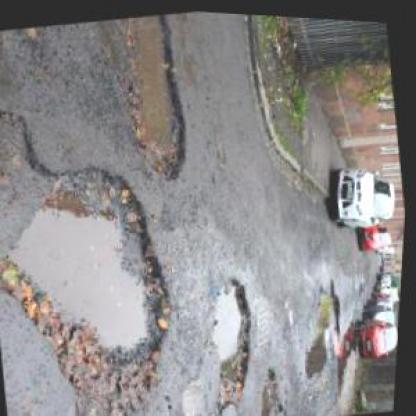pothole: (0, 142, 205, 414), (107, 8, 202, 186), (196, 270, 273, 414), (312, 273, 351, 336), (298, 328, 341, 378)
